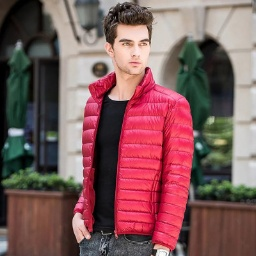face: (103, 1, 153, 75)
